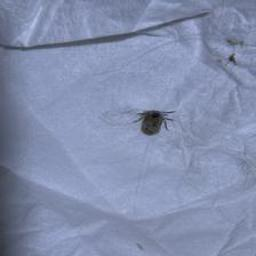Ixodes scapularis: (134, 109, 176, 136)
